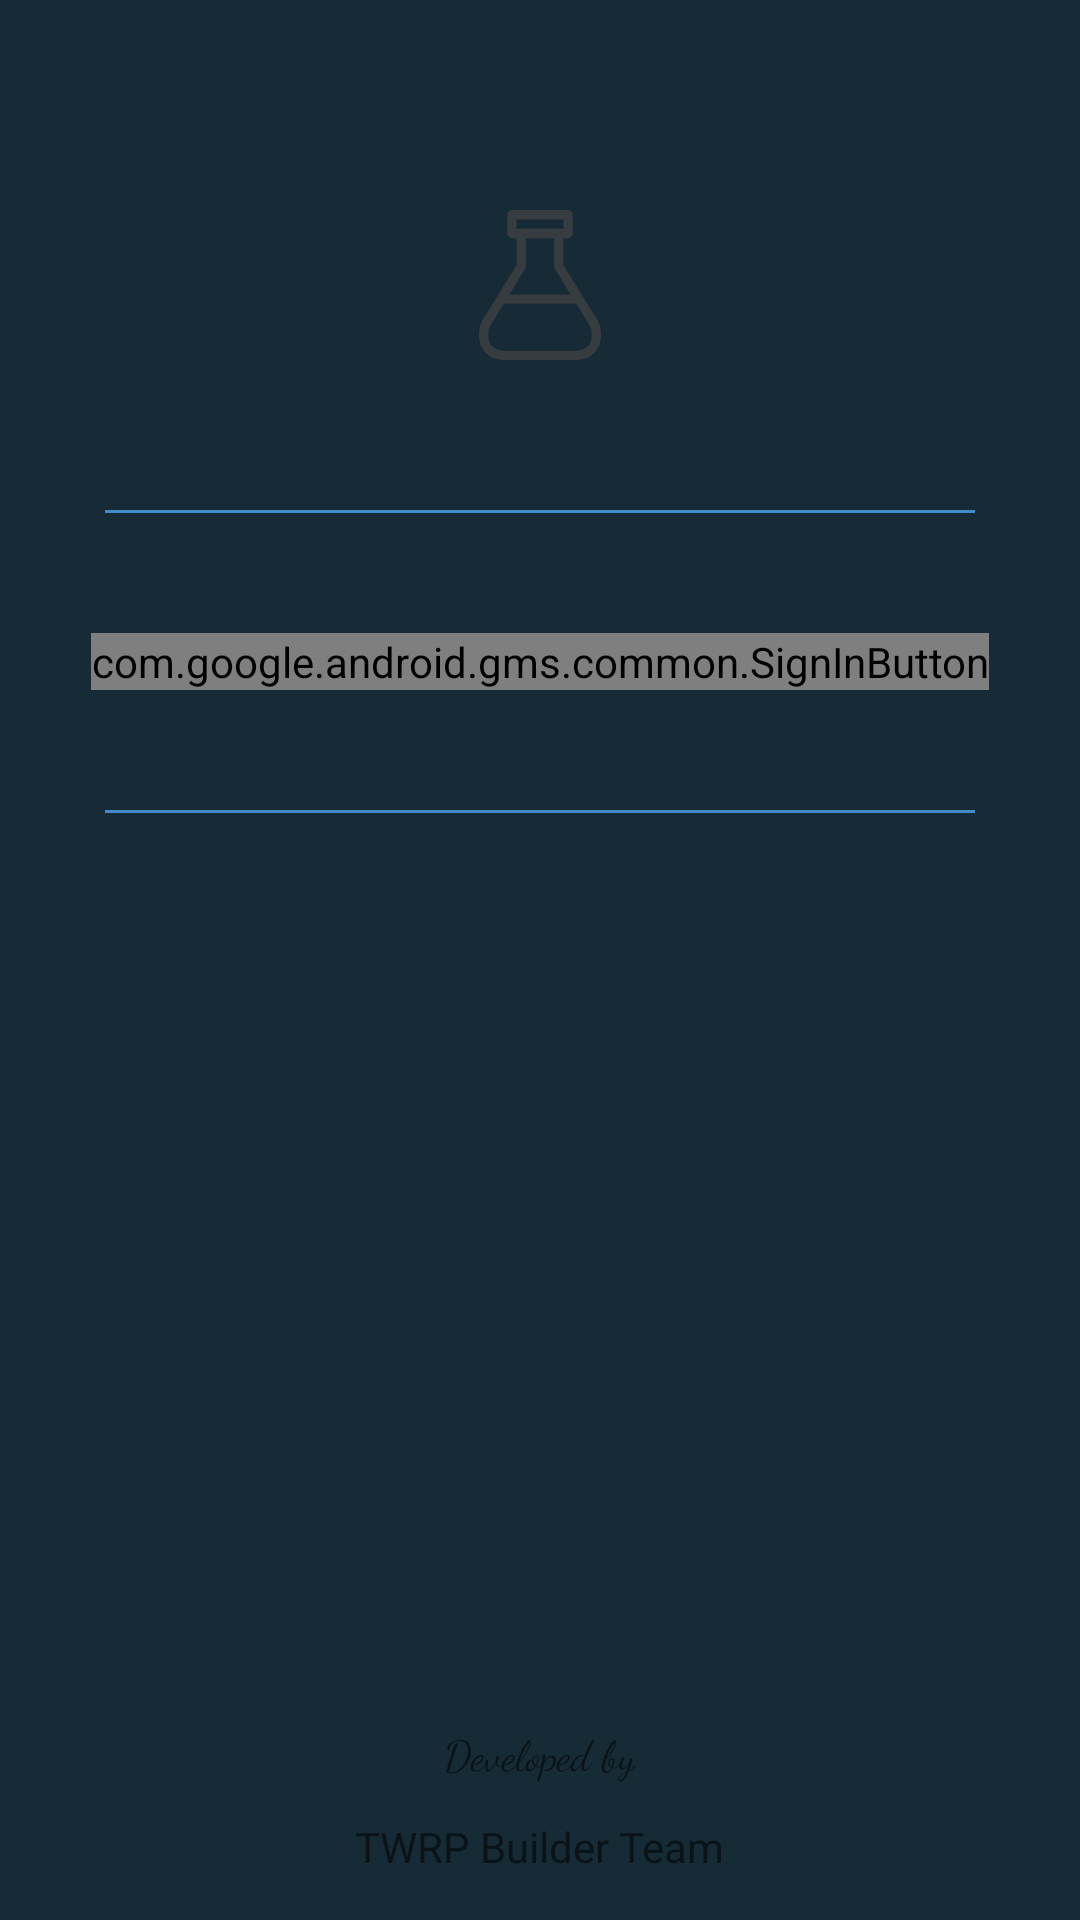

Point at icon controls on the screen. Image size 1080*1920, points as (x=x, y=y).
labs: (x=540, y=285)
